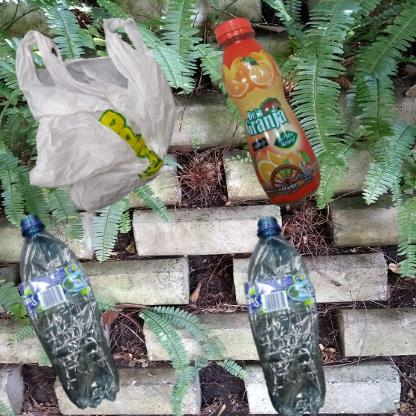bolsa: (10, 10, 192, 226)
botella: (213, 213, 382, 416), (213, 10, 331, 226), (10, 213, 132, 416)
